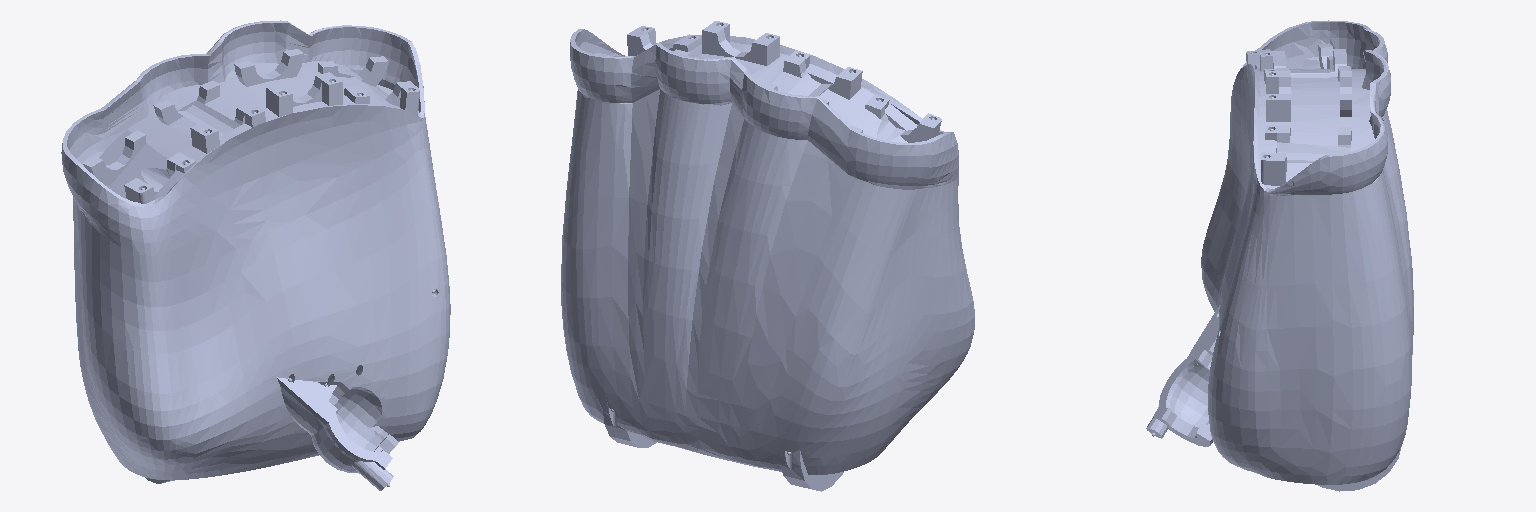
The robot description file, URDF, robot "URDF_Palm_64m.SLDASM":
<?xml version="1.0" encoding="utf-8"?>
<!-- This URDF was automatically created by SolidWorks to URDF Exporter! Originally created by [author] ([email redacted]) 
     Commit Version: 1.6.0-1-g15f4949  Build Version: 1.6.7594.29634
     For more information, please see http://wiki.ros.org/sw_urdf_exporter -->
<robot
  name="URDF_Palm_64m.SLDASM">
  <link
    name="Palm">
    <inertial>
      <origin
        xyz="-0.0086481 -0.022579 0.0096896"
        rpy="0 0 0" />
      <mass
        value="0.3273" />
      <inertia
        ixx="0.00024777"
        ixy="2.0924E-06"
        ixz="5.8218E-06"
        iyy="0.00026792"
        iyz="7.5817E-06"
        izz="0.00040841" />
    </inertial>
    <visual>
      <origin
        xyz="0 0 0"
        rpy="0 0 0" />
      <geometry>
        <mesh
          filename="package://URDF_Palm_64m.SLDASM/meshes/Palm.STL" />
      </geometry>
      <material
        name="">
        <color
          rgba="0.79216 0.81961 0.93333 1" />
      </material>
    </visual>
    <collision>
      <origin
        xyz="0 0 0"
        rpy="0 0 0" />
      <geometry>
        <mesh
          filename="package://URDF_Palm_64m.SLDASM/meshes/Palm.STL" />
      </geometry>
    </collision>
  </link>
</robot>

--- What the picture shows (computed from the rendered views, not written in the file) ---
3 views of the same robot in one strip: view 1: azimuth 30°, elevation 25°; view 2: azimuth 150°, elevation 25°; view 3: azimuth 270°, elevation 25° (orthographic).
Model URDF_Palm_64m.SLDASM with 1 links and 0 joints (none), rooted at Palm, posed all joints at 0.
Links seen in each view (by area): view 1: Palm; view 2: Palm; view 3: Palm.
Link boxes in pixels (bbox=[...]): Palm: bbox=[61, 20, 450, 490]; Palm: bbox=[561, 21, 974, 491]; Palm: bbox=[1146, 20, 1413, 491].
Bounding box of the posed robot: 0.0994 × 0.069 × 0.1113 m (x, y, z).
Meshes: 1 distinct files referenced, 1 mesh visuals loaded (1 binary STL).